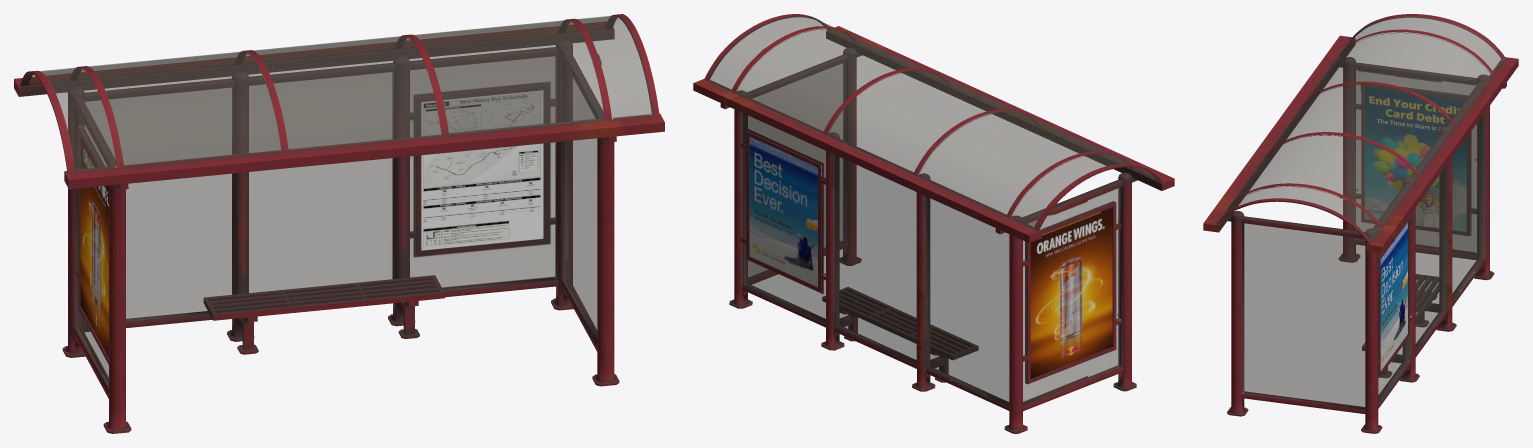
The model's file is busstop.glb.
3 renders of one model, left to right at view 1: azimuth 30°, elevation 25°; view 2: azimuth 150°, elevation 25°; view 3: azimuth 270°, elevation 25°, orthographic. The views are drawn at different scales.
Parts seen in each view (by area): view 1: BusStop_Structure_shader_0, BusStopGlassWalls, BusStopGlassCeiling, BusStop_Sign_InsideBack, BusStop_Sign_OutsideRight; view 2: BusStop_Structure_shader_0, BusStopGlassWalls, BusStopGlassCeiling, BusStop_Sign_OutsideRight, BusStop_Sign_OutsideBack; view 3: BusStop_Structure_shader_0, BusStopGlassWalls, BusStopGlassCeiling, BusStop_Sign_InsideRight, BusStop_Sign_OutsideBack.
Boxes of the visible parts, box(x1,y1,x2,y2) form: BusStop_Structure_shader_0: box(14, 14, 664, 433); BusStopGlassWalls: box(78, 56, 597, 384); BusStopGlassCeiling: box(29, 15, 651, 171); BusStop_Sign_InsideBack: box(421, 90, 543, 250); BusStop_Sign_OutsideRight: box(80, 136, 108, 357); BusStop_Structure_shader_0: box(693, 14, 1174, 433); BusStopGlassWalls: box(742, 63, 1119, 406); BusStopGlassCeiling: box(709, 16, 1156, 228); BusStop_Sign_OutsideRight: box(1030, 207, 1112, 378); BusStop_Sign_OutsideBack: box(749, 137, 817, 286); BusStop_Structure_shader_0: box(1203, 14, 1518, 433); BusStopGlassWalls: box(1243, 69, 1484, 408); BusStopGlassCeiling: box(1223, 17, 1503, 241); BusStop_Sign_InsideRight: box(1365, 87, 1466, 231); BusStop_Sign_OutsideBack: box(1380, 222, 1407, 370).
Size of the model in its own units: 6.26 by 3.26 by 3.95.
Materials: 3 (3 with a texture image).
